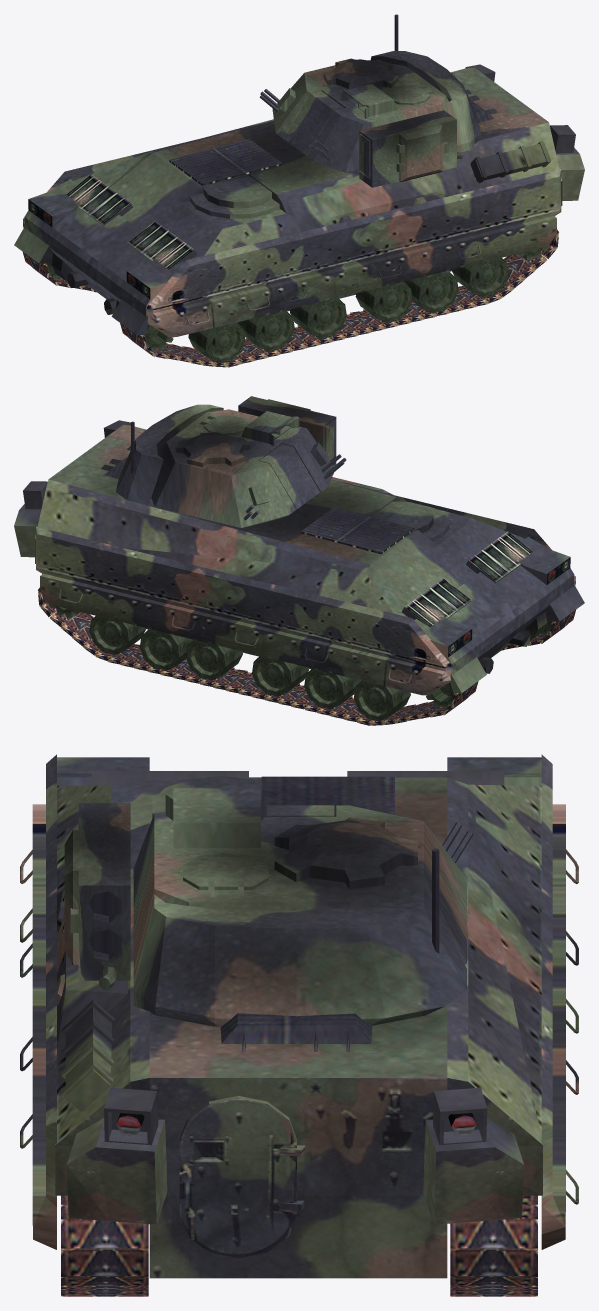
Rendered from ExportedBlenderFBXFile.fbx.
3 views of the same model, one above another, from view 1: azimuth 30°, elevation 25°; view 2: azimuth 150°, elevation 25°; view 3: azimuth 270°, elevation 25° (orthographic). The views are drawn at different scales.
Parts seen in each view (by area): view 1: body, turret, tracks; view 2: body, turret, tracks; view 3: body, turret, tracks.
Part boxes in pixels (box(x1,y1,x2,y2)): body: box(14, 64, 584, 337); turret: box(259, 14, 480, 187); tracks: box(23, 229, 558, 367); body: box(14, 420, 584, 695); turret: box(116, 396, 346, 527); tracks: box(38, 587, 575, 725); body: box(20, 754, 578, 1278); turret: box(64, 788, 473, 1026); tracks: box(61, 1195, 537, 1296).
Size of the model in its own units: 0.8918 by 0.409 by 0.471.
